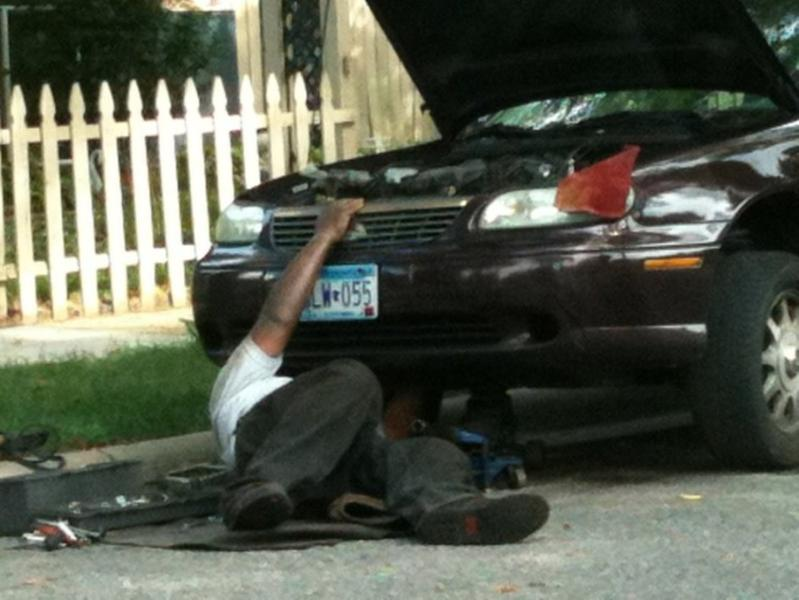person: (209, 195, 553, 547)
